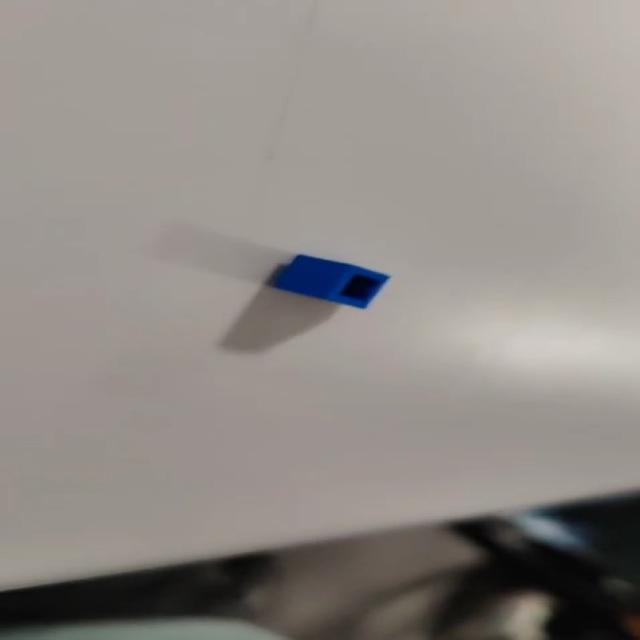X1x2x1: (272, 252, 399, 314)
